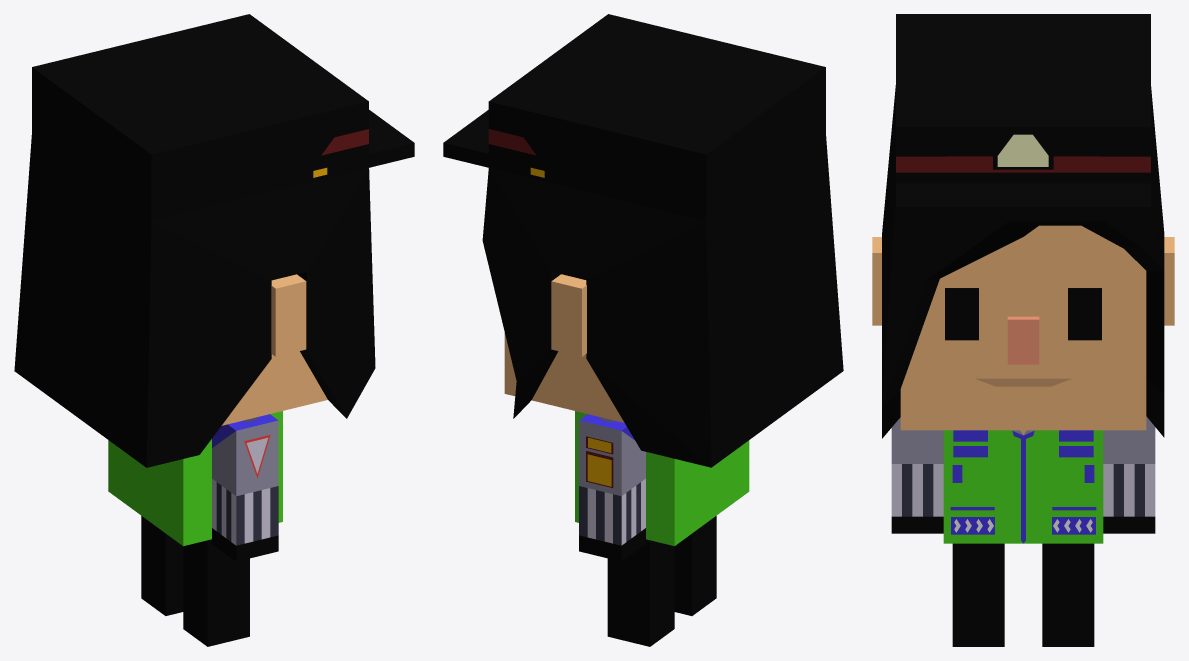
File: orang_5_abu.fbx
3 renders of one model, left to right at view 1: azimuth 30°, elevation 25°; view 2: azimuth 150°, elevation 25°; view 3: azimuth 270°, elevation 25°, orthographic. The views are drawn at different scales.
Parts seen in each view (by area): view 1: Human.006; view 2: Human.006; view 3: Human.006.
Part boxes in pixels (box(x1,y1,x2,y2)): Human.006: box(14, 14, 414, 646); Human.006: box(443, 14, 843, 646); Human.006: box(872, 14, 1174, 646).
Bounding box in the file's own units: 138 × 255 × 123.
1 material, 1 textured.
